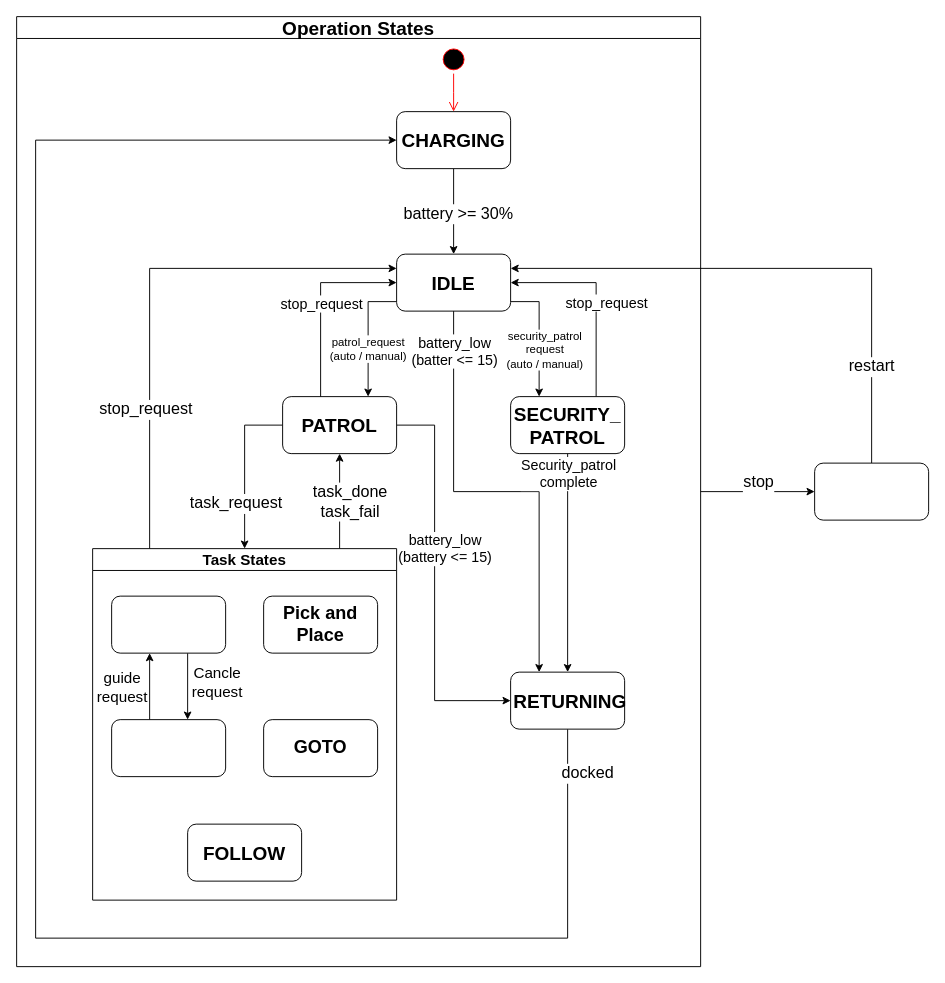
This 945x983 diagram has some shape labels left out. The shapes that lost their labels are listed below. From the top down, each one's centre as x and y in pixels, then its label:
At (x=871, y=491): "ERROR".
At (x=168, y=624): "GUIDE".
At (x=168, y=748): "INTERACTING".
